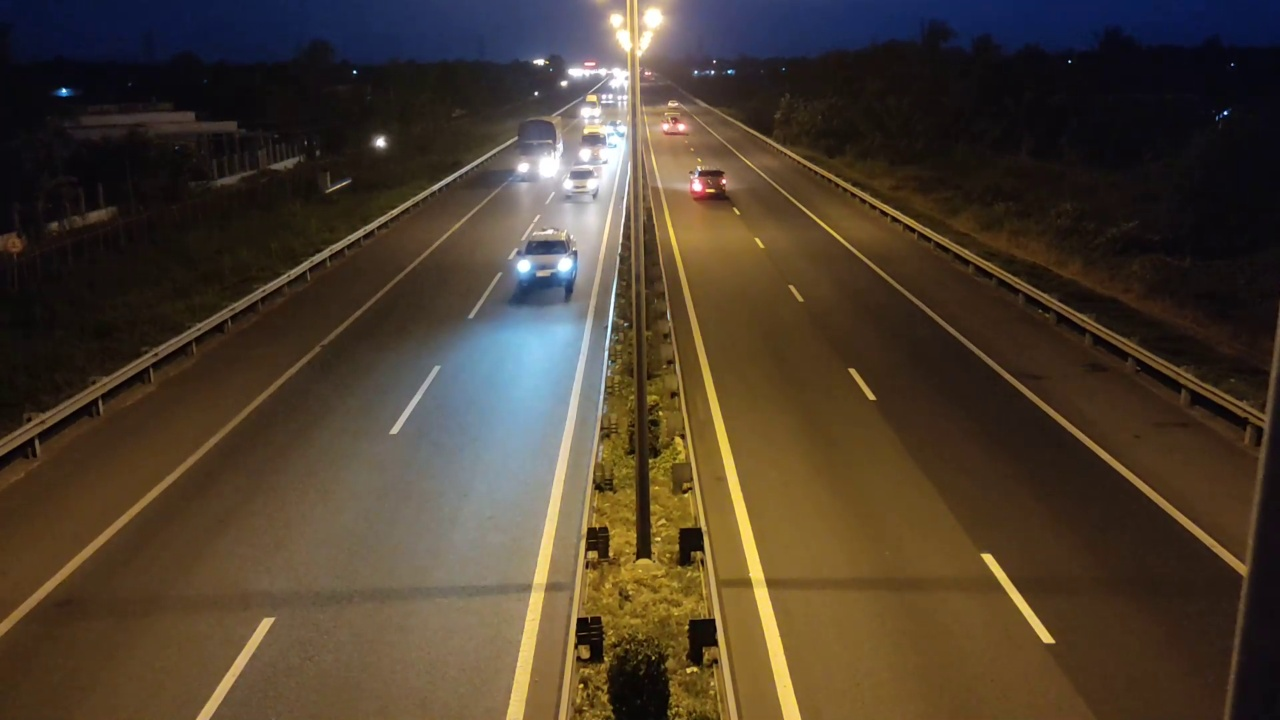car: (507, 228, 579, 304), (561, 165, 601, 202), (687, 167, 729, 201)
